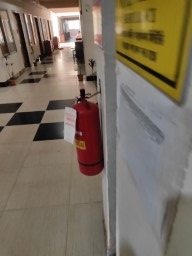fire_extinguisher: (74, 117, 132, 159)
